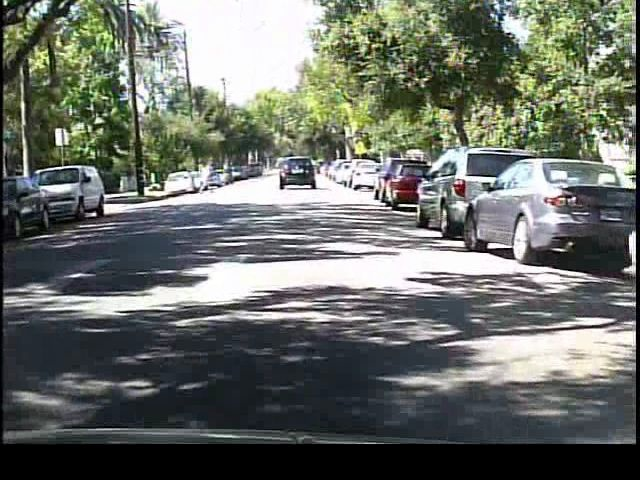person: (196, 158, 216, 197)
